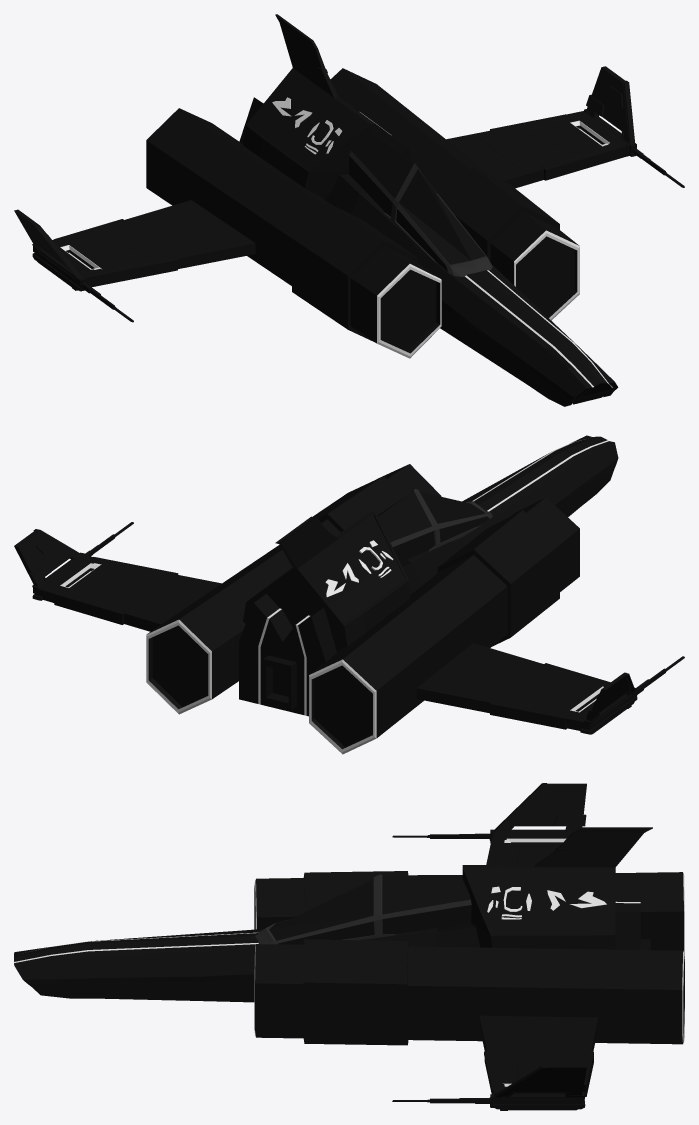
Rendered from PlayerShip_0 - Copy (2).fbx.
3 views of the same model, one above another, from view 1: azimuth 30°, elevation 25°; view 2: azimuth 150°, elevation 25°; view 3: azimuth 270°, elevation 25° (orthographic).
Visible parts, largest first — view 1: spaceship 1; view 2: spaceship 1; view 3: spaceship 1.
Part boxes in pixels (x1,y1,x2,y2): spaceship 1: (14,14,684,406); spaceship 1: (14,435,684,754); spaceship 1: (14,783,684,1110).
Size of the model in its own units: 1405 by 420 by 1398.
